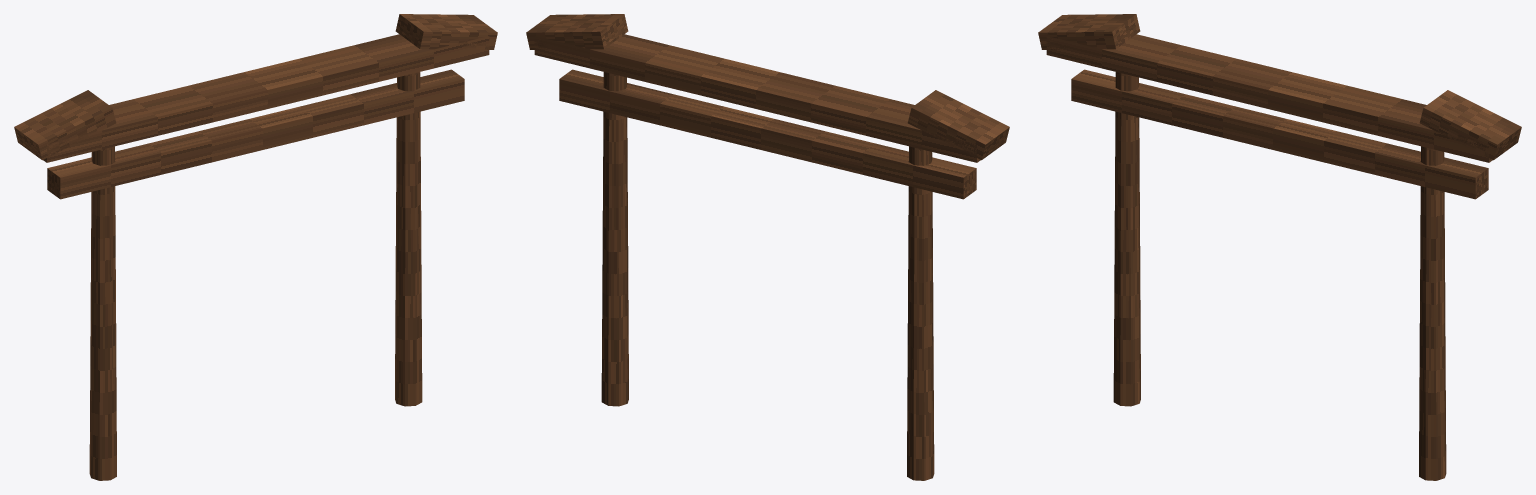
The model's file is gate_59.glb.
The picture shows the model from 3 angles, left to right: view 1: azimuth 30°, elevation 25°; view 2: azimuth 150°, elevation 25°; view 3: azimuth 330°, elevation 25°; orthographic projection.
Parts seen in each view (by area): view 1: Roof, Lintel, Pillar.001, Pillar, RaisedEave, RaisedEave.001; view 2: Roof, Lintel, Pillar.001, Pillar, RaisedEave, RaisedEave.001; view 3: Roof, Lintel, Pillar, Pillar.001, RaisedEave.001, RaisedEave.
Part boxes in pixels (bbox=[...]): Roof: bbox=[43, 34, 489, 162]; Lintel: bbox=[47, 69, 464, 199]; Pillar.001: bbox=[395, 72, 422, 406]; Pillar: bbox=[89, 146, 116, 480]; RaisedEave: bbox=[14, 90, 116, 160]; RaisedEave.001: bbox=[395, 14, 497, 49]; Roof: bbox=[534, 34, 980, 162]; Lintel: bbox=[559, 69, 976, 199]; Pillar.001: bbox=[601, 72, 628, 406]; Pillar: bbox=[907, 146, 934, 480]; RaisedEave: bbox=[907, 90, 1009, 160]; RaisedEave.001: bbox=[526, 14, 628, 49]; Roof: bbox=[1046, 34, 1492, 162]; Lintel: bbox=[1071, 69, 1488, 199]; Pillar: bbox=[1113, 72, 1140, 406]; Pillar.001: bbox=[1419, 146, 1446, 480]; RaisedEave.001: bbox=[1419, 90, 1521, 160]; RaisedEave: bbox=[1038, 14, 1140, 49].
Bounding box in the file's own units: 7.09 × 5.56 × 0.65.
Materials: 1 (1 with a texture image).
